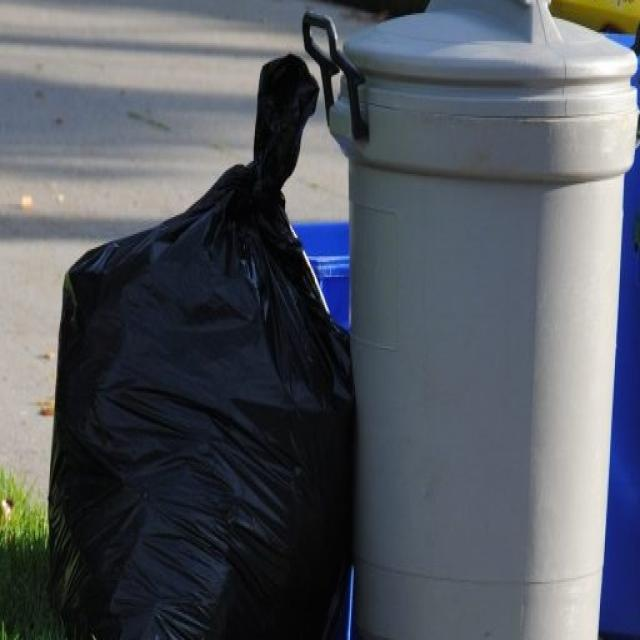Trashbag: (35, 176, 352, 640)
